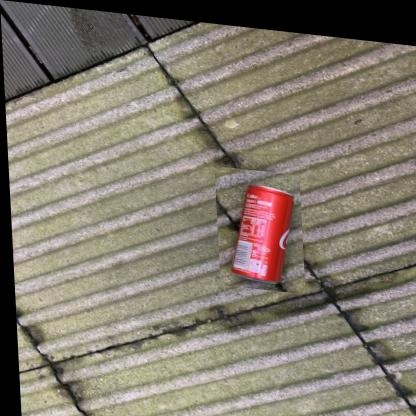trash: (232, 185, 293, 282)
